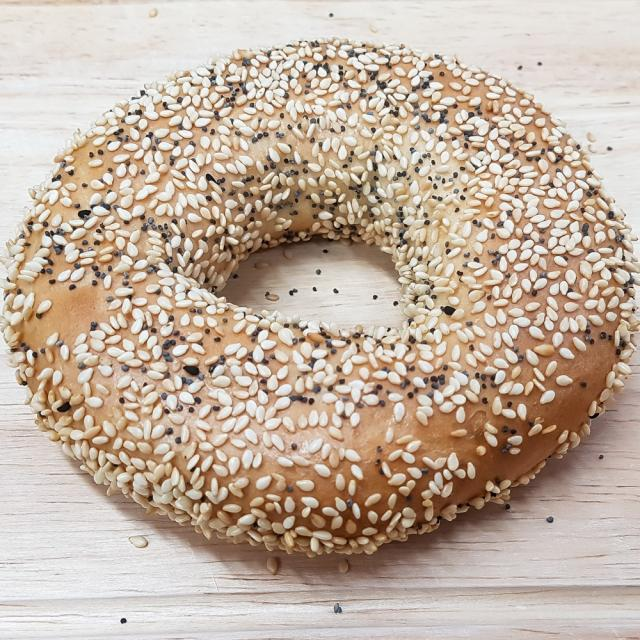Bagel: (4, 39, 638, 555)
